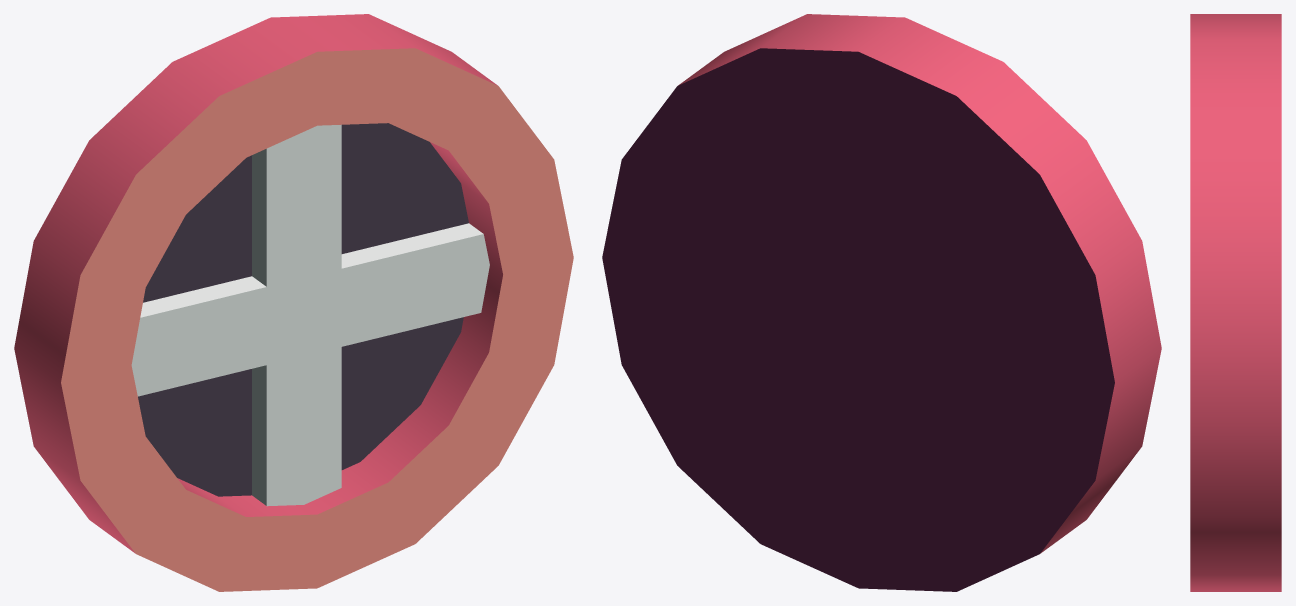
Rendered from SmallWindow02_Pink_White.glb.
3 renders of one model, left to right at view 1: azimuth 30°, elevation 25°; view 2: azimuth 150°, elevation 25°; view 3: azimuth 270°, elevation 25°, orthographic. The views are drawn at different scales.
Visible parts, largest first — view 1: SmallWindow02_Pink_White; view 2: SmallWindow02_Pink_White; view 3: SmallWindow02_Pink_White.
Boxes of the visible parts, box(x1,y1,x2,y2) form: SmallWindow02_Pink_White: box(14, 14, 573, 591); SmallWindow02_Pink_White: box(602, 14, 1161, 591); SmallWindow02_Pink_White: box(1190, 14, 1281, 591).
Size of the model in its own units: 0.5633 by 0.5633 by 0.089.
Materials: 1 (1 with a texture image).
